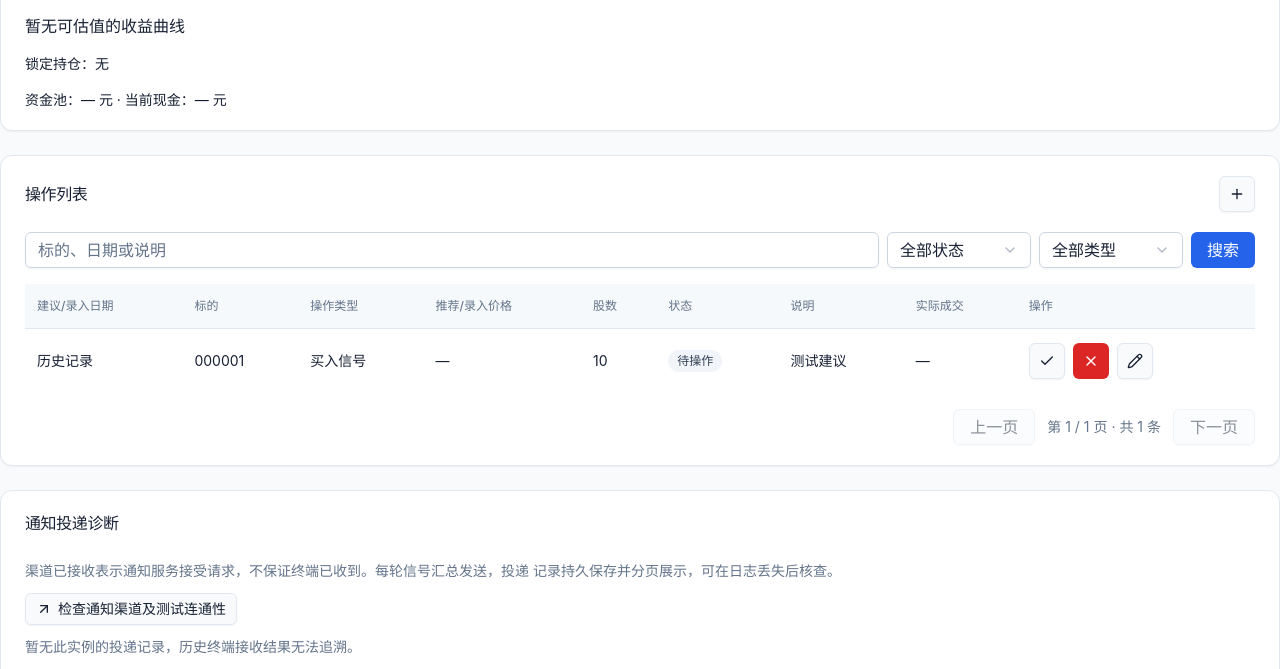
实盘建议处理反馈 › 成功后立即更新状态并禁用已处理按钮
(page scrolled)
Click the button named "接受建议" at (1047, 360), box left=1029, top=342, right=1065, bottom=378
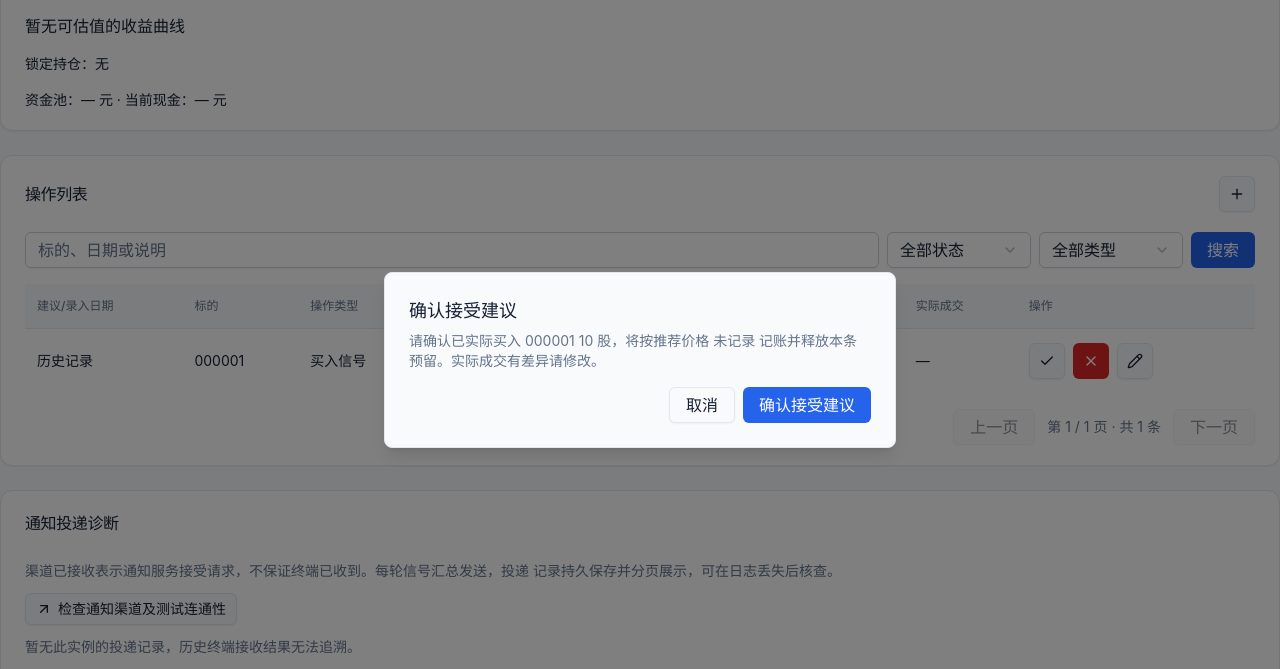
Click the button "确认接受建议" at (807, 405), box left=743, top=387, right=871, bottom=423
(page scrolled)
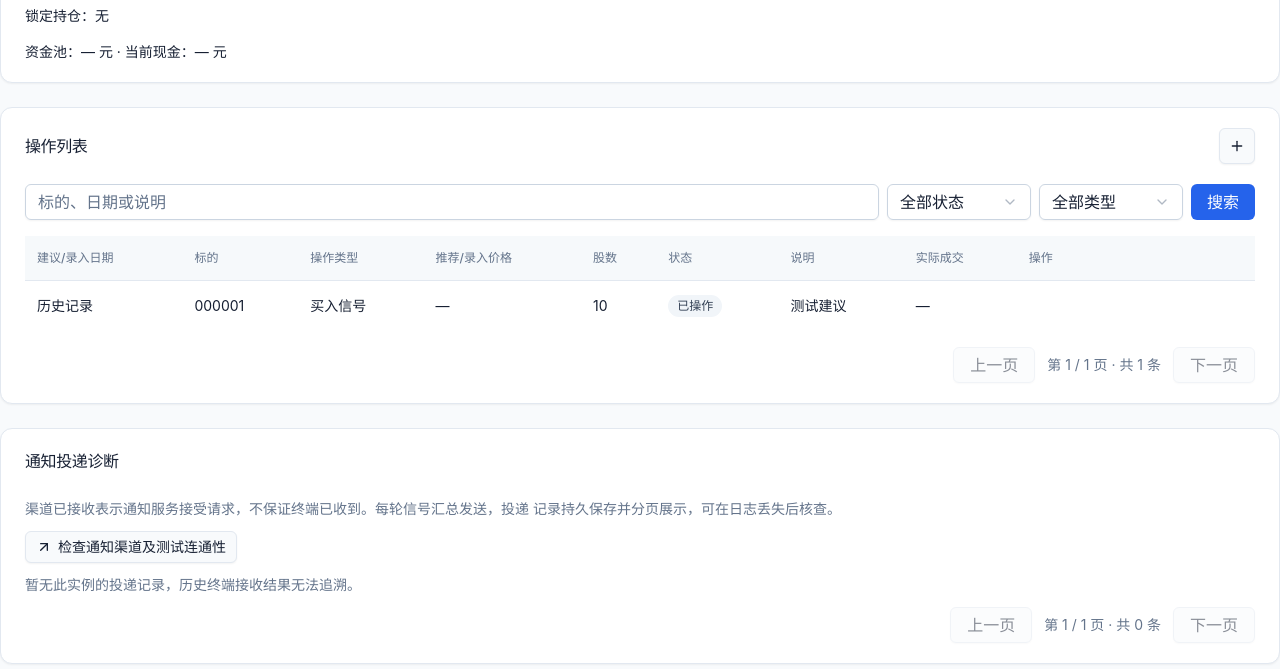
Result: the dialog is gone
Result: the heading "接受建议" is gone
Result: the cell "已操作" is shown at left=656, top=280, right=778, bottom=330
